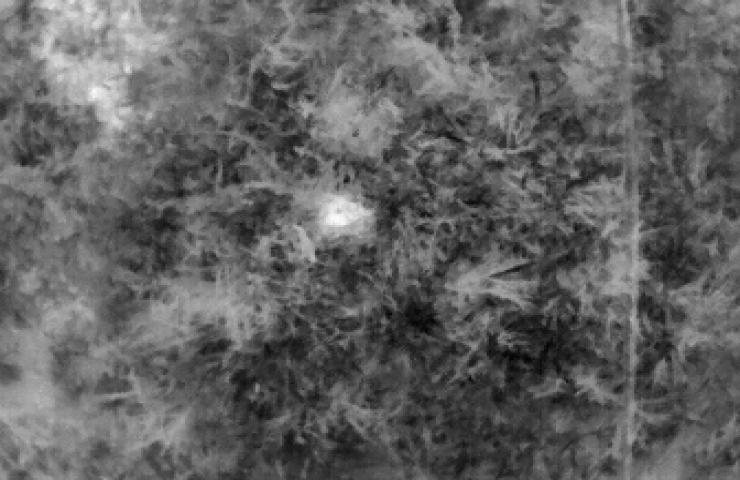landmines: (323, 196, 366, 230)
